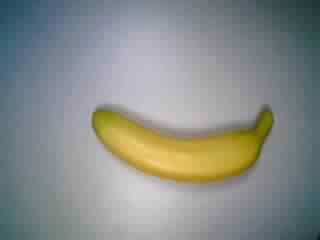banana: (90, 100, 281, 190)
